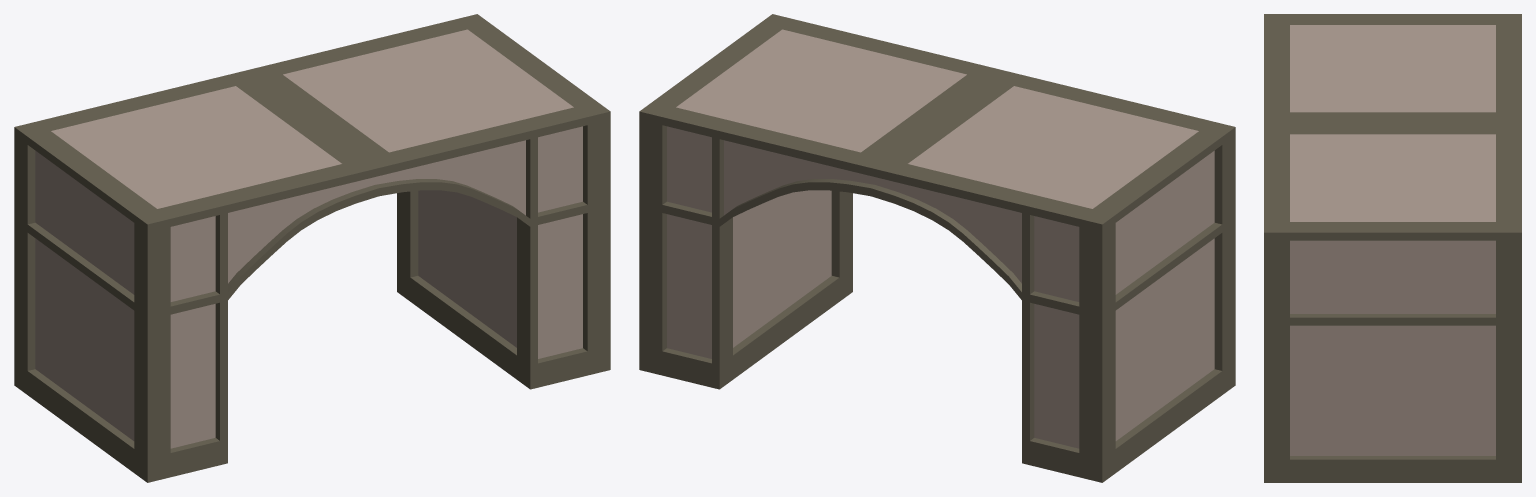
Rendered from BigArch.fbx.
3 views of the same model, side by side, from view 1: azimuth 30°, elevation 25°; view 2: azimuth 150°, elevation 25°; view 3: azimuth 270°, elevation 25° (orthographic). The views are drawn at different scales.
Parts seen in each view (by area): view 1: BigArch; view 2: BigArch; view 3: BigArch.
Part boxes in pixels (<box>): BigArch: <box>14,14,610,482</box>; BigArch: <box>639,14,1235,482</box>; BigArch: <box>1264,14,1521,482</box>.
Bounding box in the file's own units: 600 × 299 × 320.
